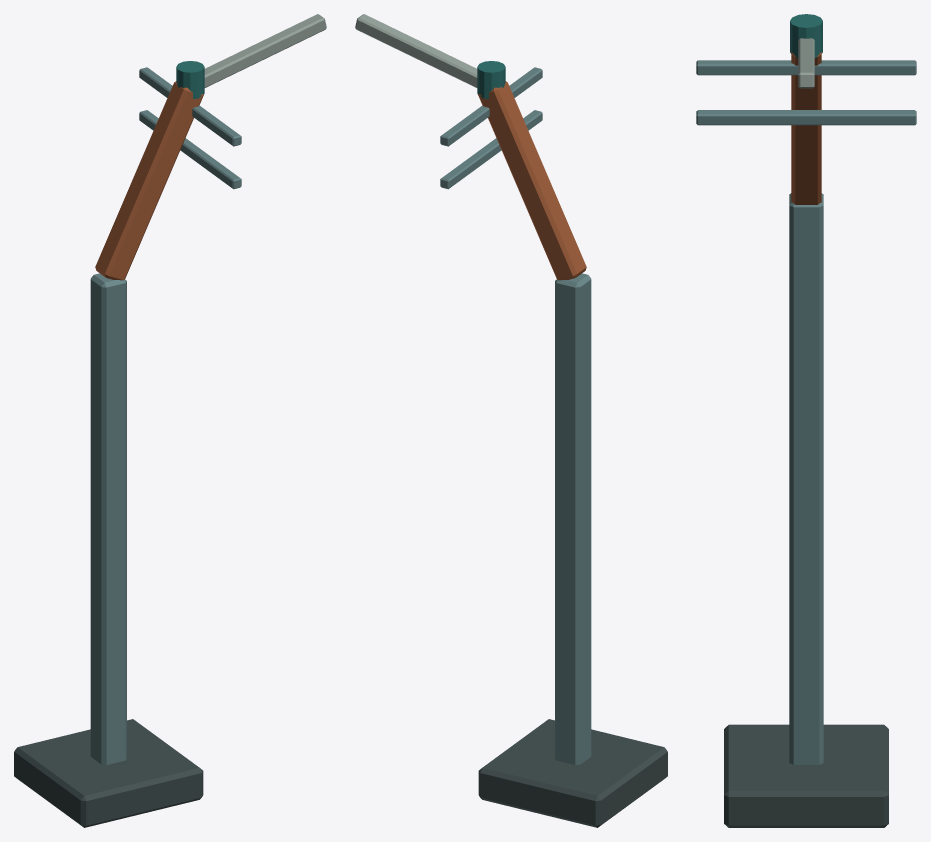
File: Relay_Antenna_Bent.glb
The picture shows the model from 3 angles, left to right: view 1: azimuth 30°, elevation 25°; view 2: azimuth 150°, elevation 25°; view 3: azimuth 270°, elevation 25°; orthographic projection. The views are drawn at different scales.
Parts seen in each view (by area): view 1: Relay_Antenna_Bent; view 2: Relay_Antenna_Bent; view 3: Relay_Antenna_Bent.
Part boxes in pixels (x1,y1,x2,y2): Relay_Antenna_Bent: (14,14,326,827); Relay_Antenna_Bent: (355,14,667,827); Relay_Antenna_Bent: (696,14,916,827).
Bounding box in the file's own units: 2.71 × 6.75 × 1.6.
